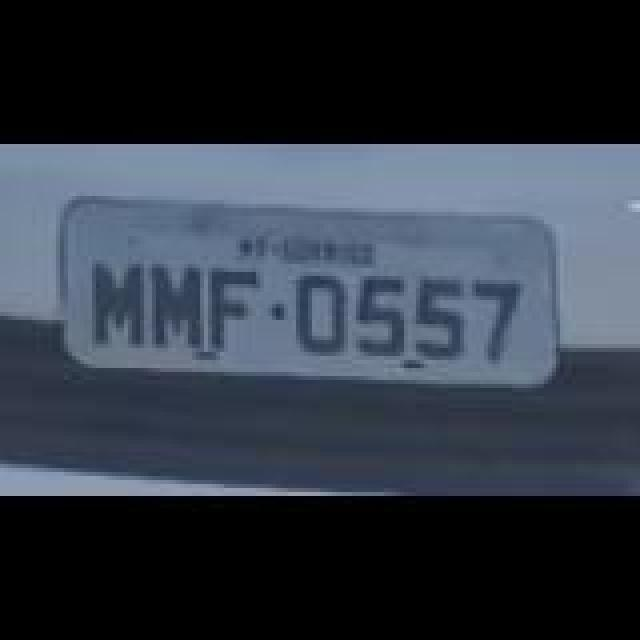5: (352, 276, 416, 356), (410, 278, 470, 362)
7: (470, 282, 530, 366)
D: (290, 276, 350, 356)
F: (206, 270, 266, 354)
M: (90, 258, 150, 350), (146, 264, 206, 352)
